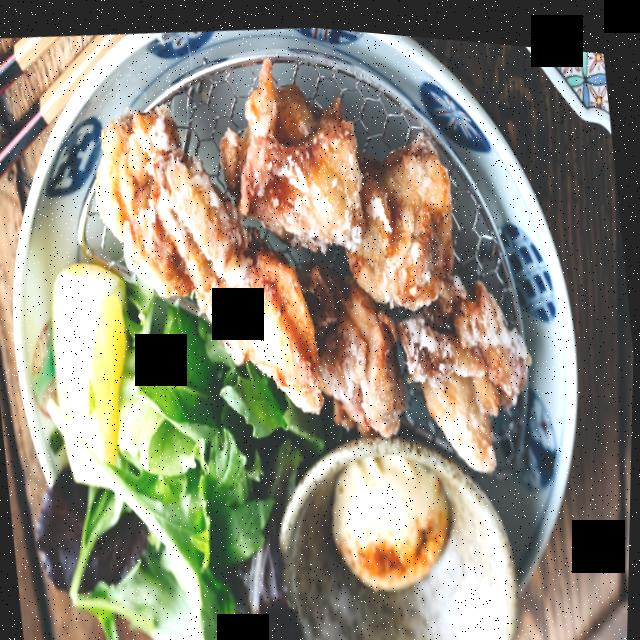Frango: (72, 6, 550, 511)
